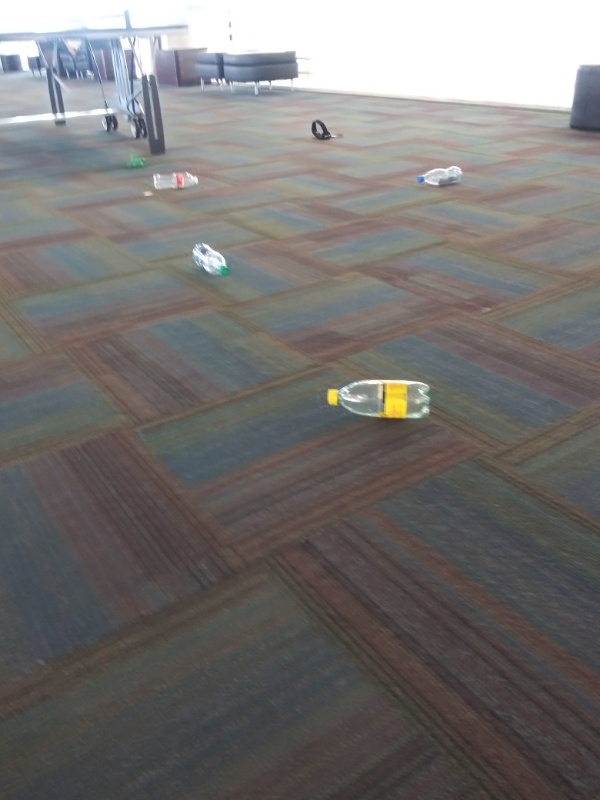bottle: (322, 375, 435, 423), (186, 238, 231, 278), (410, 163, 467, 189), (149, 170, 206, 195)
